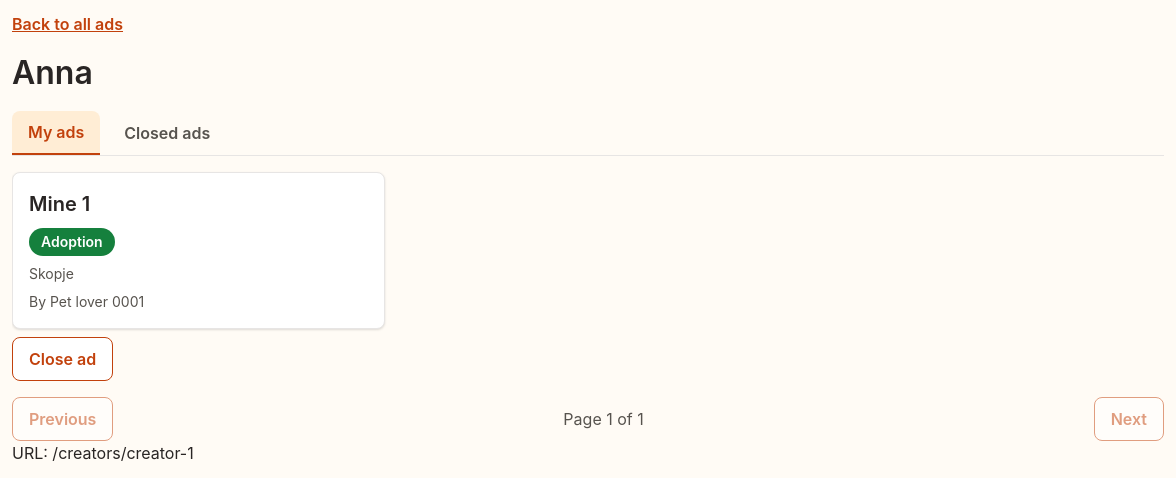
Test: CreatorProfilePage › closed ads tab › has two tabs in a tablist, with aria-selected following the selection
Expected: the heading "Mine 1" is shown, [29, 192, 90, 216]
Click the tab "Closed ads".
click(167, 133)  # box [108, 111, 226, 155]
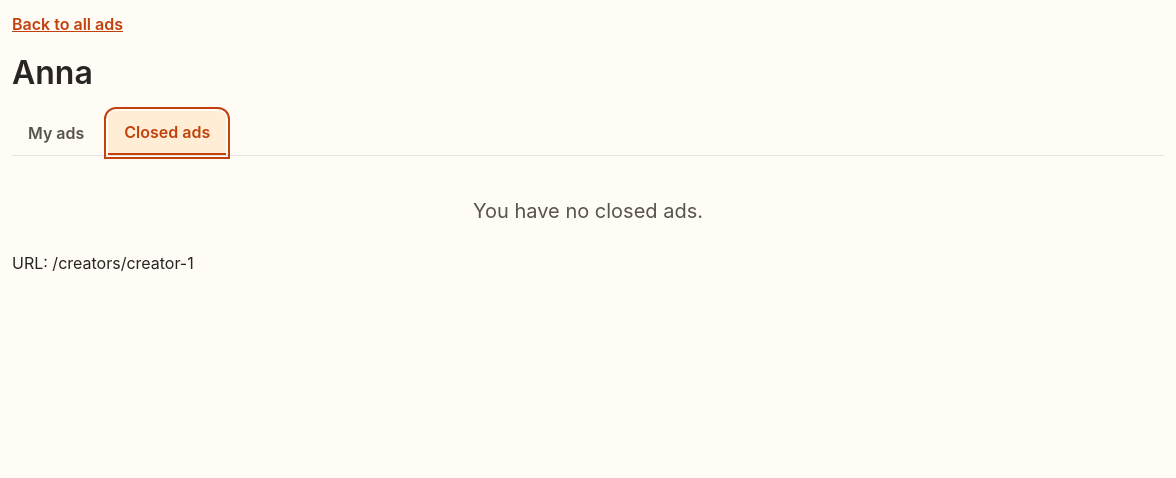
Expected: the tab "Closed ads" is selected, [108, 111, 226, 155]
Expected: the tab "My ads" is not selected, [12, 111, 100, 155]
